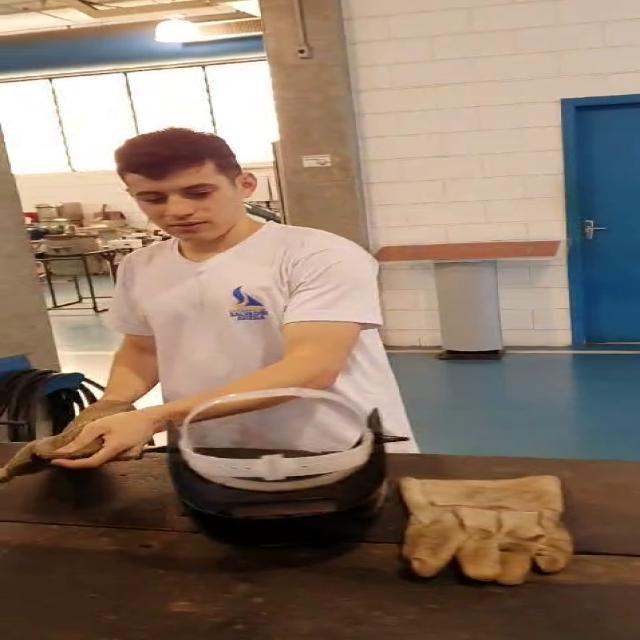sem_oculos: (122, 186, 262, 208)
